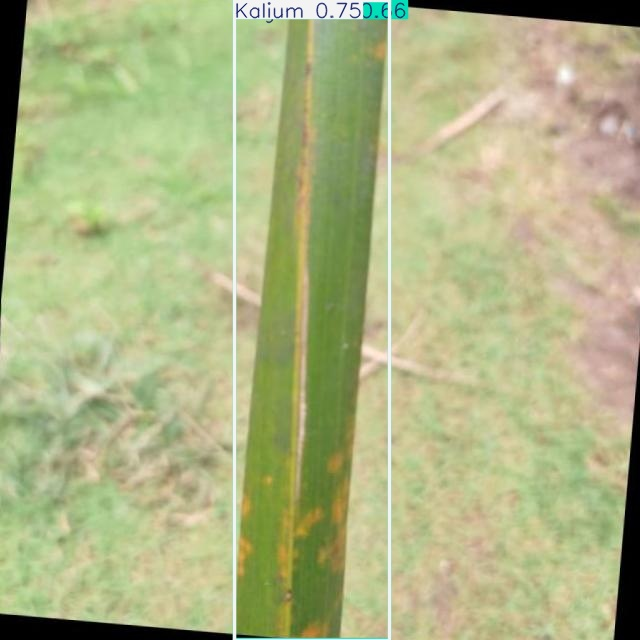Kalium: (234, 0, 389, 640)
Megnesium: (235, 0, 390, 640)
